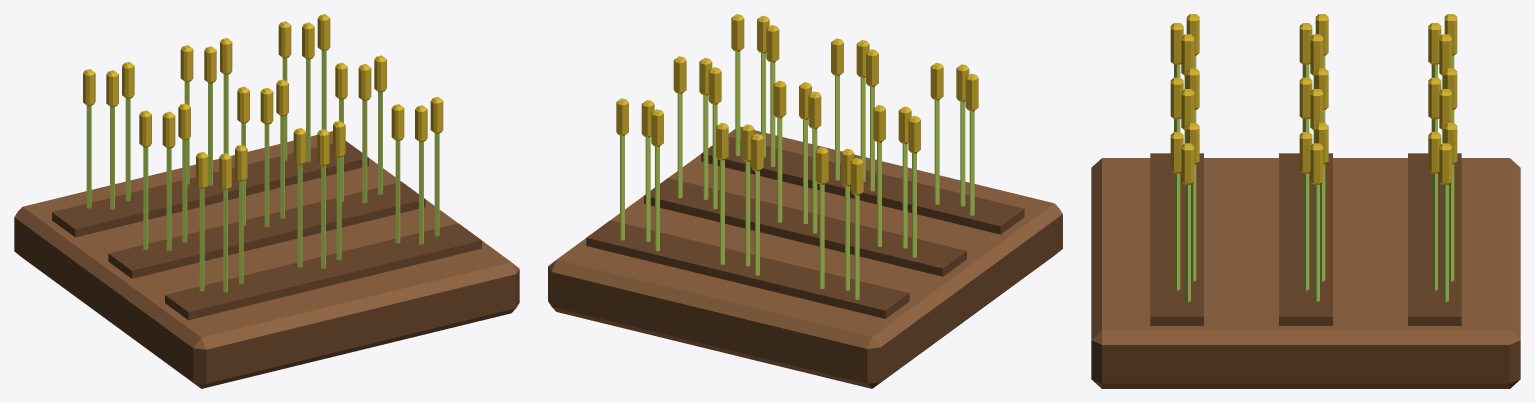
File: WheatField.fbx
The picture shows the model from 3 angles, left to right: view 1: azimuth 30°, elevation 25°; view 2: azimuth 150°, elevation 25°; view 3: azimuth 270°, elevation 25°; orthographic projection. The views are drawn at different scales.
Visible parts, largest first — view 1: WheatField; view 2: WheatField; view 3: WheatField.
Part boxes in pixels (left/top/right/bottom): WheatField: left=14, top=14, right=519, bottom=388; WheatField: left=548, top=14, right=1062, bottom=388; WheatField: left=1091, top=14, right=1520, bottom=388.
Bounding box in the file's own units: 4 × 2.3 × 4.
Materials: 1 (1 with a texture image).
